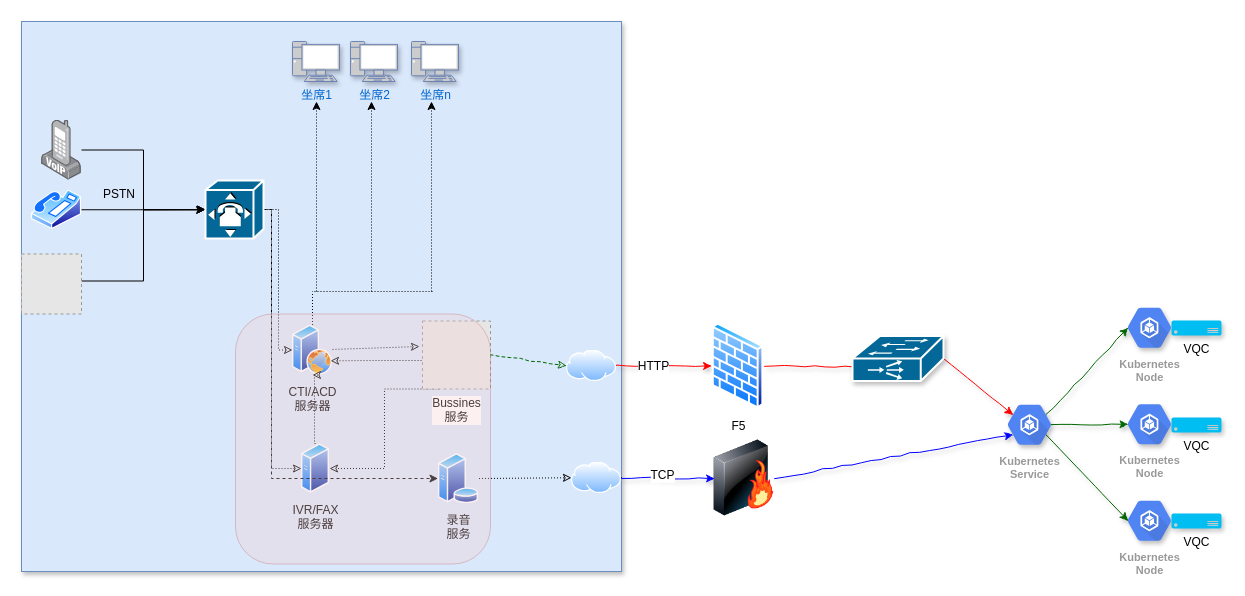
Some shapes in this 1245 by 596 pixel diagram are drawn without their labels. Grey dashed boxes stand in for pictures. Each missing label, with the centre of its shape:
FW: [744,477]
PBX: [234,209]
UIG: [898,359]
